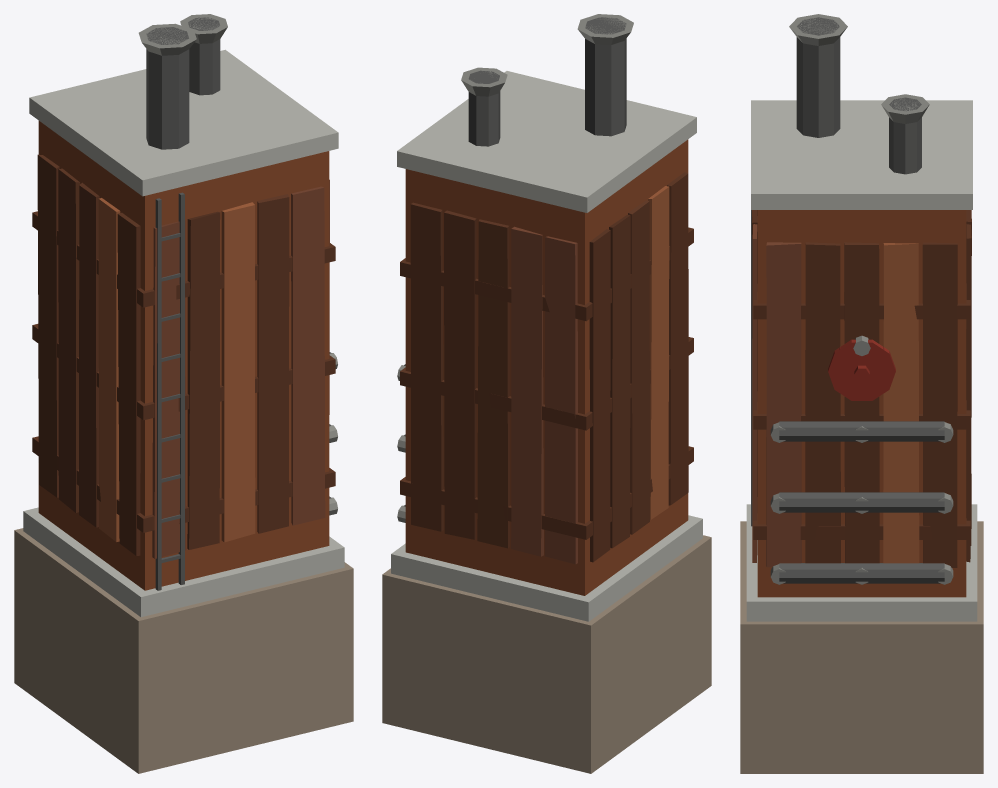
File: fort_pumpworks_tower.glb
3 views of the same model, side by side, from view 1: azimuth 30°, elevation 25°; view 2: azimuth 150°, elevation 25°; view 3: azimuth 270°, elevation 25° (orthographic). The views are drawn at different scales.
Visible parts, largest first — view 1: fort_pumpworks_tower; view 2: fort_pumpworks_tower; view 3: fort_pumpworks_tower.
Boxes of the visible parts, bbox=[...] form: fort_pumpworks_tower: bbox=[14, 14, 353, 773]; fort_pumpworks_tower: bbox=[382, 14, 711, 773]; fort_pumpworks_tower: bbox=[740, 14, 983, 773].
Size of the model in its own units: 5.75 by 17.2 by 5.6.
